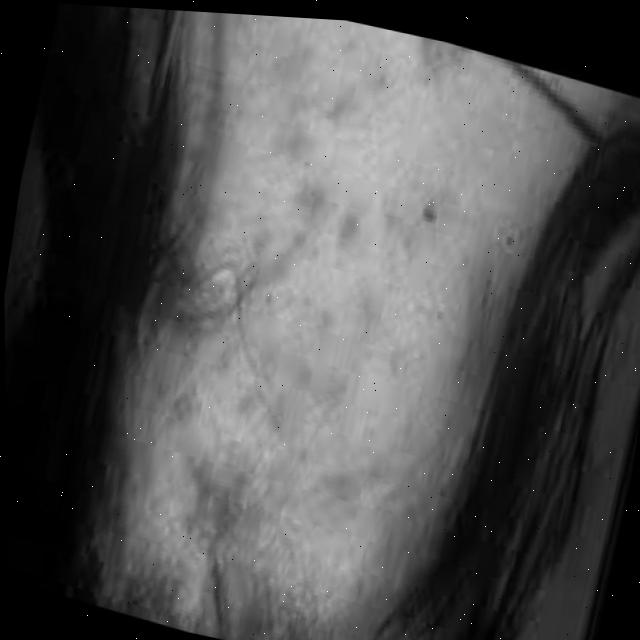Eczema: (140, 17, 502, 595)
